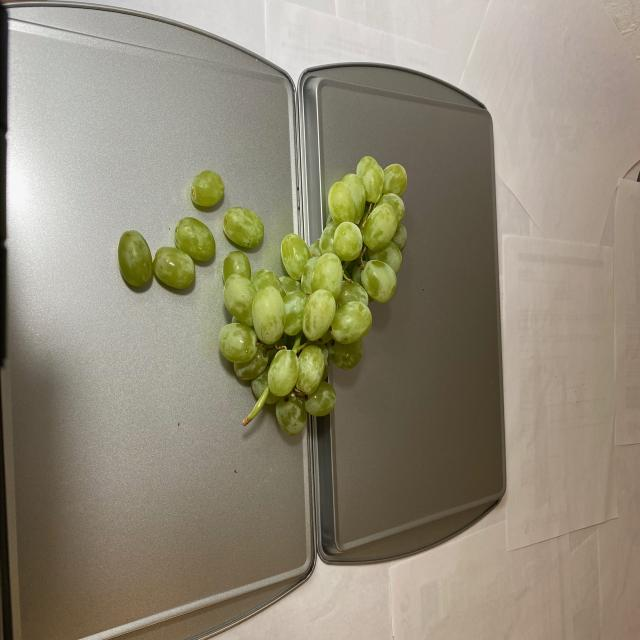Grapes: (120, 152, 410, 436)
